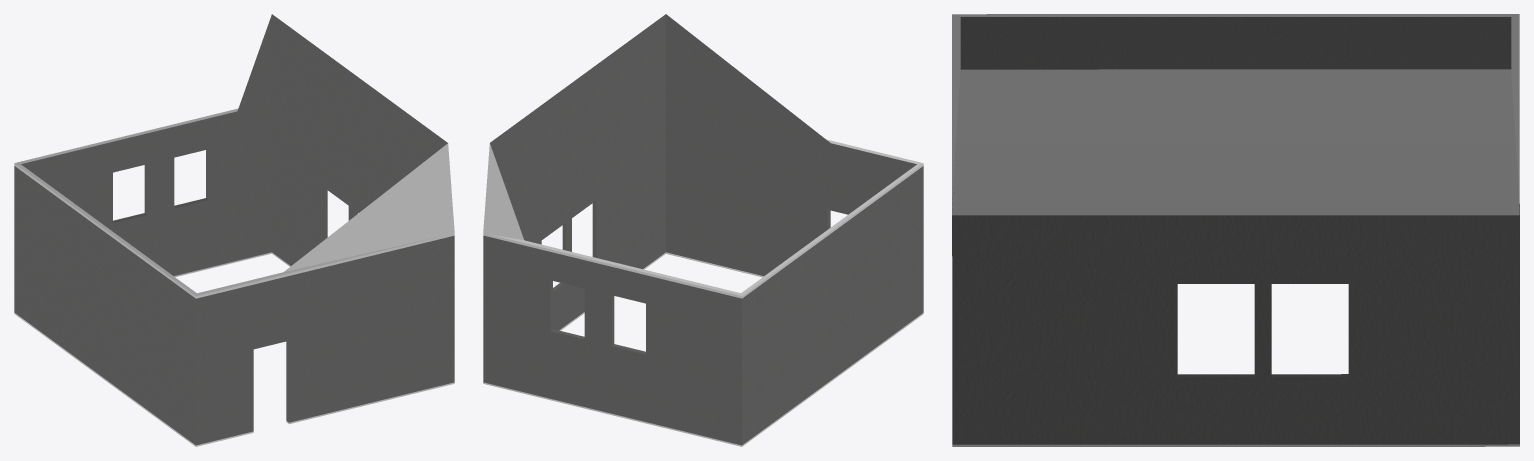
The model's file is FP309:StandardWallSize_006_f01f77c4.obj.
3 views of the same model, side by side, from view 1: azimuth 30°, elevation 25°; view 2: azimuth 150°, elevation 25°; view 3: azimuth 270°, elevation 25° (orthographic). The views are drawn at different scales.
Parts seen in each view (by area): view 1: FP309:StandardWallSize.006_f01f77c4; view 2: FP309:StandardWallSize.006_f01f77c4; view 3: FP309:StandardWallSize.006_f01f77c4.
Part boxes in pixels (<box>): FP309:StandardWallSize.006_f01f77c4: <box>14,14,454,446</box>; FP309:StandardWallSize.006_f01f77c4: <box>483,14,923,446</box>; FP309:StandardWallSize.006_f01f77c4: <box>952,14,1519,446</box>.
Bounding box in the file's own units: 6.22 × 5.51 × 7.56.
